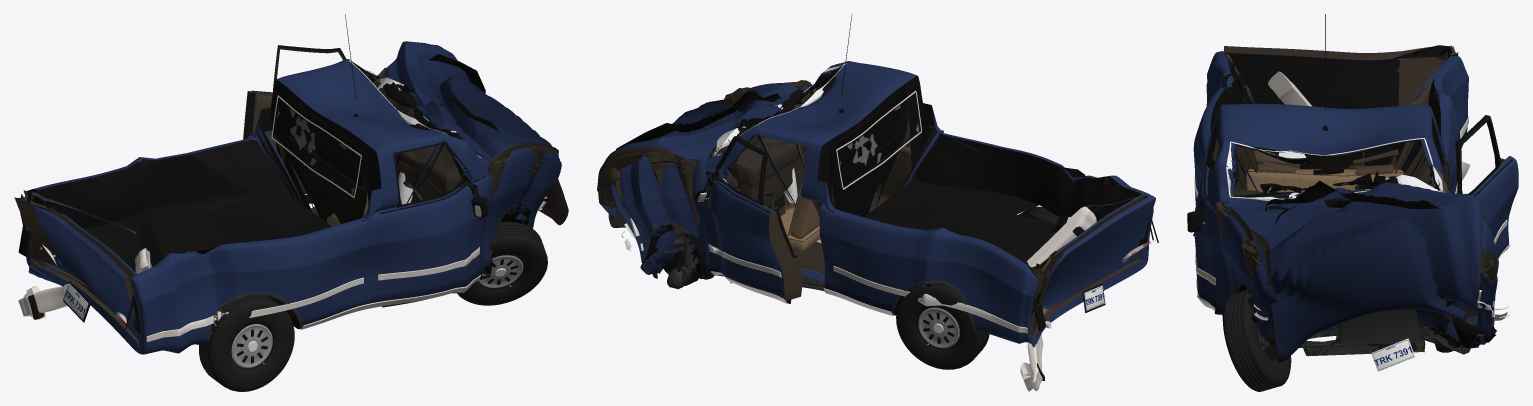
Rendered from pickup87_front_d3.glb.
3 views of the same model, side by side, from view 1: azimuth 30°, elevation 25°; view 2: azimuth 150°, elevation 25°; view 3: azimuth 270°, elevation 25° (orthographic). The views are drawn at different scales.
Parts seen in each view (by area): view 1: Body, Hood, Wheel_RR_mesh, Tailgate, Door_FR, Wheel_FR_mesh, Interior, Trim, Trim_FR, Glass, Bumper_R, Door_FL (+1 smaller); view 2: Body, Door_FL, Hood, Tailgate, Wheel_RL_mesh, Interior, Trim, Bumper_R, Glass, Trim_FL, Ends, Underbody (+1 smaller); view 3: Body, Hood, Wheel_FR_mesh, Interior, Door_FL, Engine, Underbody, Glass, Tailgate, Ends, Door_FR, Trim (+3 smaller).
Part boxes in pixels (x1,y1,x2,y2): Body: [20, 59, 561, 354]; Hood: [378, 41, 568, 225]; Wheel_RR_mesh: [199, 295, 294, 391]; Tailgate: [14, 197, 138, 339]; Door_FR: [374, 142, 487, 301]; Wheel_FR_mesh: [457, 222, 547, 305]; Interior: [331, 83, 461, 220]; Trim: [146, 14, 526, 344]; Trim_FR: [374, 141, 487, 307]; Glass: [271, 60, 480, 197]; Bumper_R: [18, 248, 151, 319]; Door_FL: [243, 45, 345, 193]; Body: [610, 61, 1153, 347]; Door_FL: [700, 135, 802, 300]; Hood: [597, 83, 808, 227]; Tailgate: [1033, 195, 1155, 331]; Wheel_RL_mesh: [896, 284, 989, 369]; Interior: [730, 93, 820, 251]; Trim: [642, 14, 1033, 333]; Bumper_R: [1020, 206, 1096, 391]; Glass: [714, 63, 921, 189]; Trim_FL: [694, 137, 791, 304]; Ends: [621, 216, 1158, 330]; Underbody: [667, 239, 1051, 332]; Body: [1193, 45, 1498, 348]; Hood: [1221, 181, 1482, 363]; Wheel_FR_mesh: [1222, 290, 1291, 391]; Interior: [1233, 149, 1404, 195]; Door_FL: [1455, 115, 1518, 257]; Engine: [1339, 309, 1421, 344]; Underbody: [1260, 323, 1470, 356]; Glass: [1226, 138, 1443, 200]; Tailgate: [1224, 45, 1452, 59]; Ends: [1253, 290, 1509, 371]; Door_FR: [1195, 117, 1218, 307]; Trim: [1194, 14, 1496, 346].
Size of the model in its own units: 4.26 by 2.58 by 2.49.
Materials: 33 (5 with a texture image).
